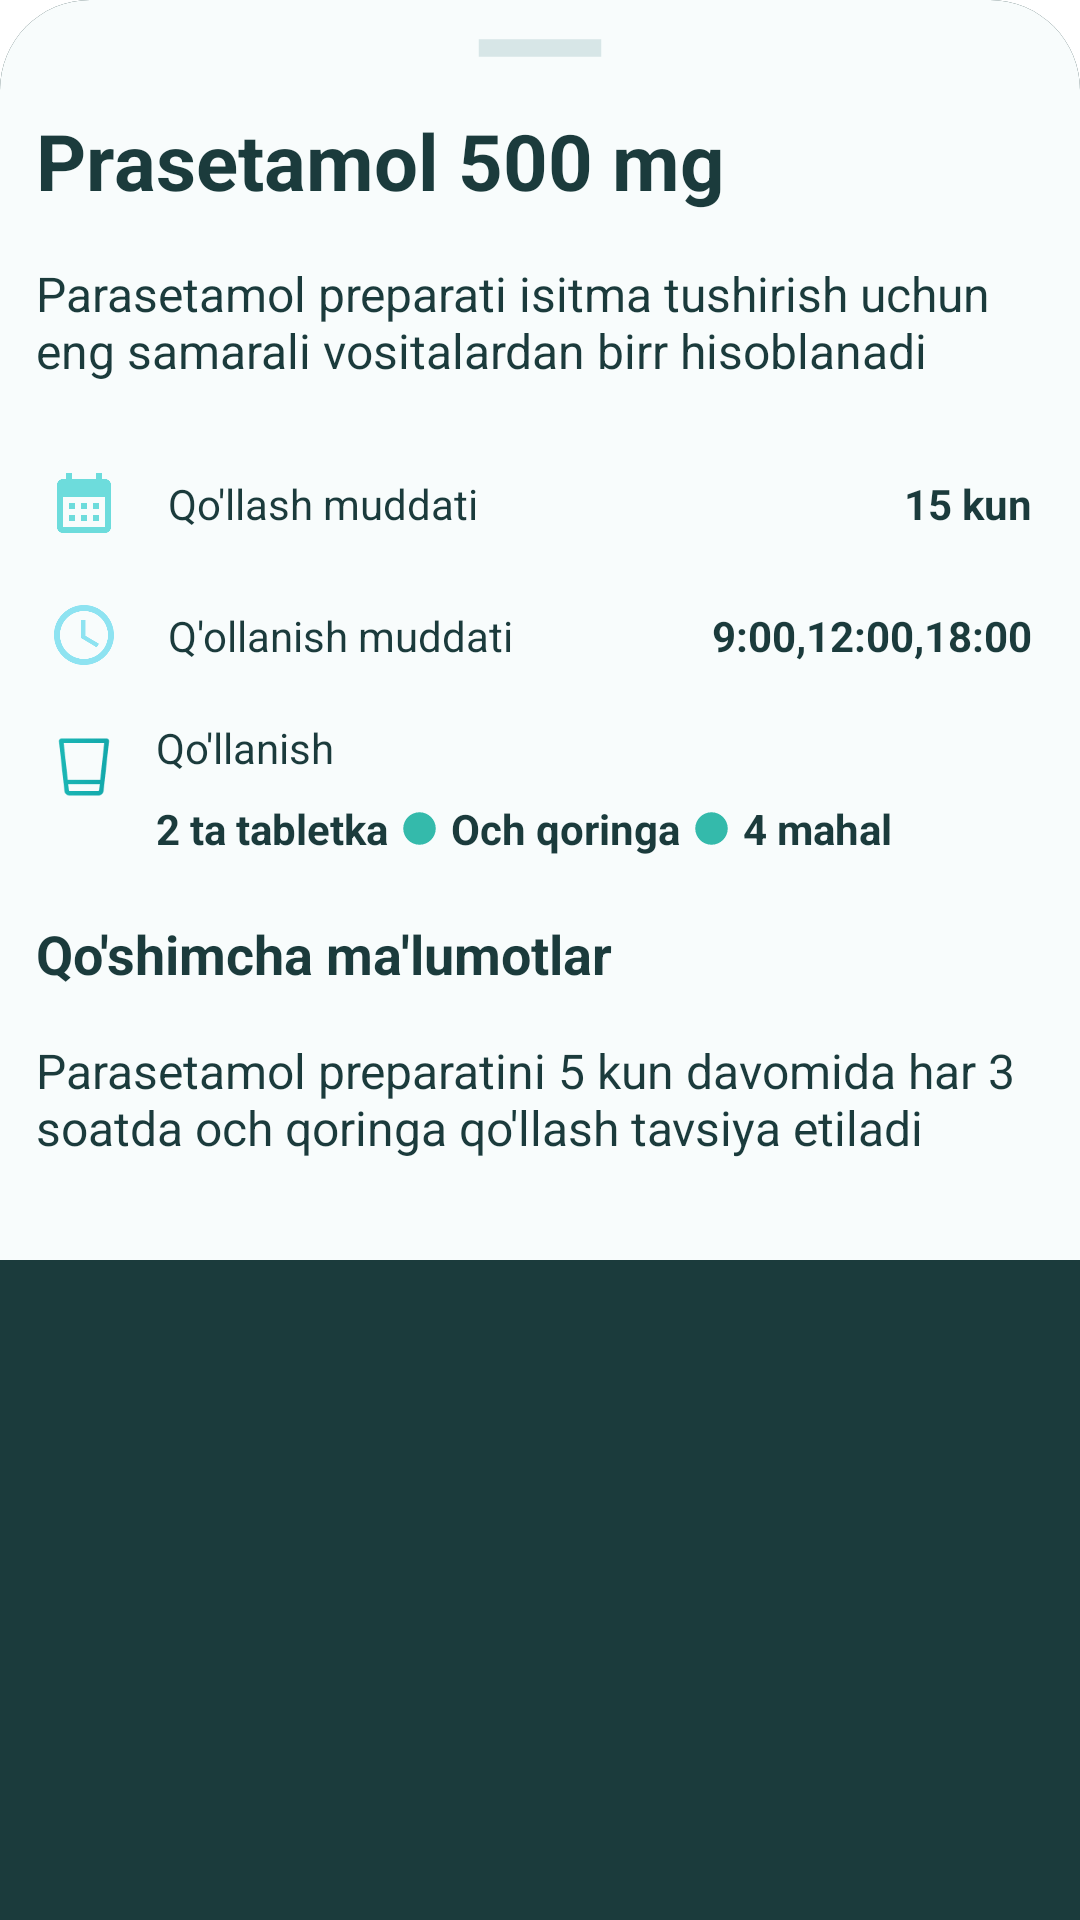

Icon bounding boxes for this 1080w x 1920h phone screenshot, format rect(x1, y1, x2, y2):
access time: rect(54, 605, 114, 665)
calendar month: rect(57, 473, 111, 533)
glass cup: rect(58, 738, 110, 796)
